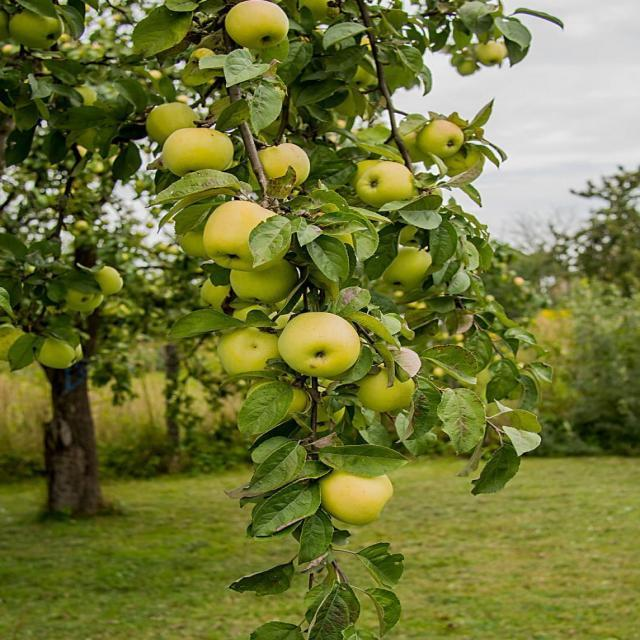Green Apple: (205, 201, 286, 270), (288, 314, 361, 372), (322, 468, 393, 522), (163, 127, 233, 175), (235, 256, 295, 306), (225, 329, 289, 375), (233, 2, 292, 47), (252, 143, 310, 188), (361, 365, 416, 409), (363, 166, 419, 207), (262, 380, 312, 425), (151, 102, 207, 140), (170, 223, 220, 262), (391, 248, 434, 290), (14, 11, 64, 47), (421, 121, 461, 157), (46, 337, 88, 370), (445, 144, 480, 175), (64, 286, 105, 312), (350, 55, 379, 87), (297, 1, 343, 21), (1, 322, 26, 357), (94, 266, 124, 295), (399, 127, 424, 156), (1, 2, 15, 42), (482, 46, 506, 66), (462, 60, 479, 76), (76, 222, 90, 233)
